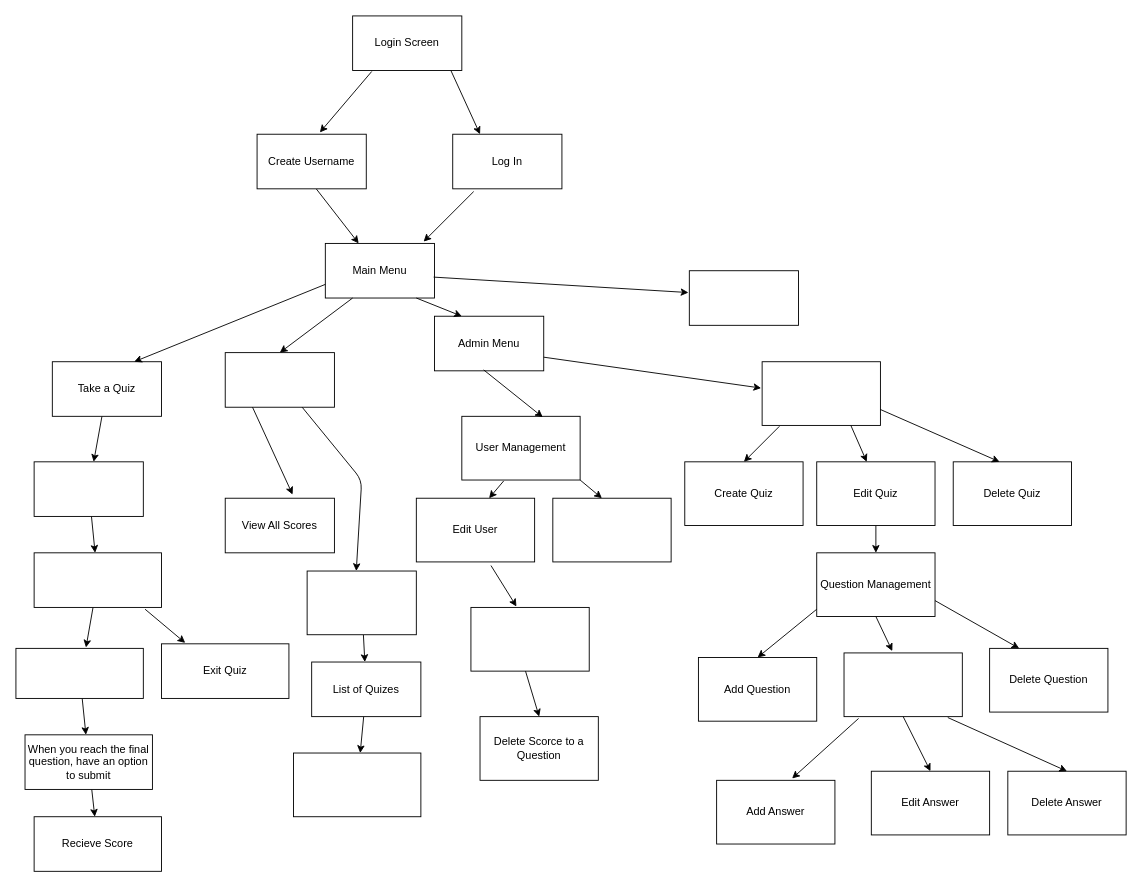
Some shapes in this 1142 by 887 pixel diagram are drawn without their labels. The centre of each missing label's shape, as x and y in pixels:
Delete User: the point at 611,529
Edit Question: the point at 902,684
Exit: the point at 743,297
List of Quizzes: the point at 88,488
List Questions and Scores: the point at 529,639
Process to the next question: the point at 79,672
Quiz Management: the point at 820,393
Show only one question and mutiple options for that question: the point at 97,579
Show the score of the specific quiz: the point at 357,784
View Scores: the point at 279,379
View Scores by Quiz: the point at 361,602
